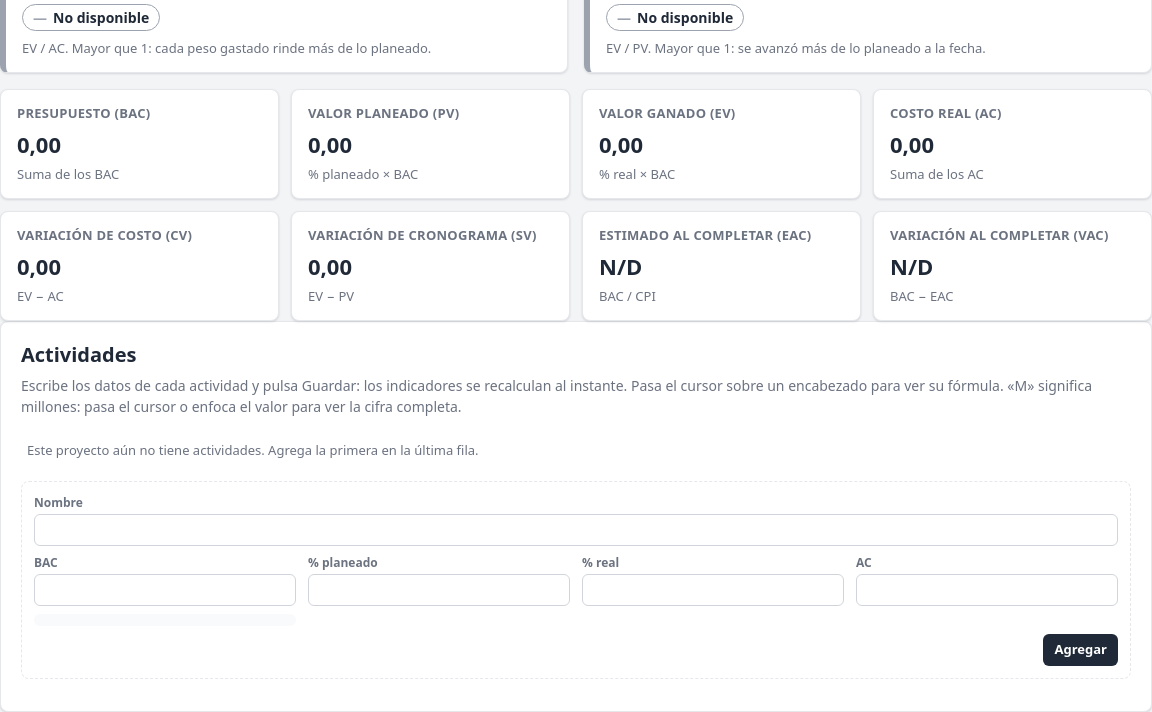
Scenario: ActivitiesTable › adds an activity from the last row and clears it
The image size is (1152, 712).
(page scrolled)
Expected: the text "Este proyecto aún no tiene actividades" is shown, [27, 441, 478, 459]
In the field named "Nombre de la nueva actividad": (576, 530) [34, 514, 1118, 546], type "Reportes"
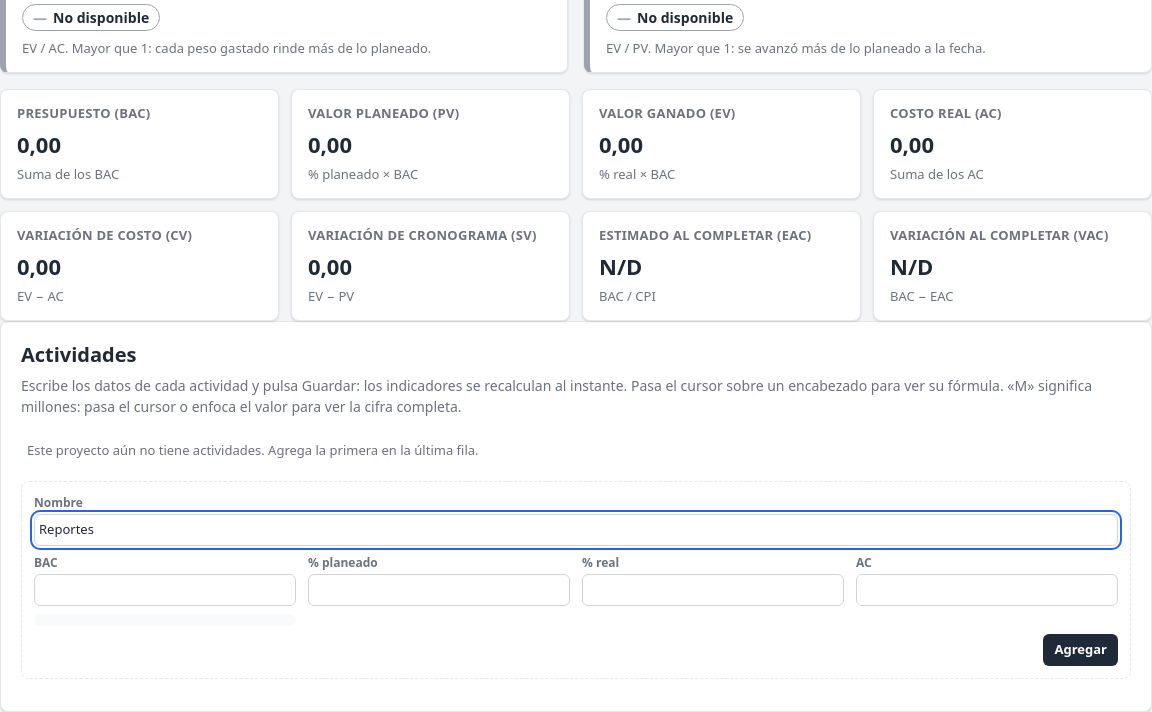
In the number field named "BAC de la nueva actividad": (165, 590) [34, 574, 296, 606], type "20000"
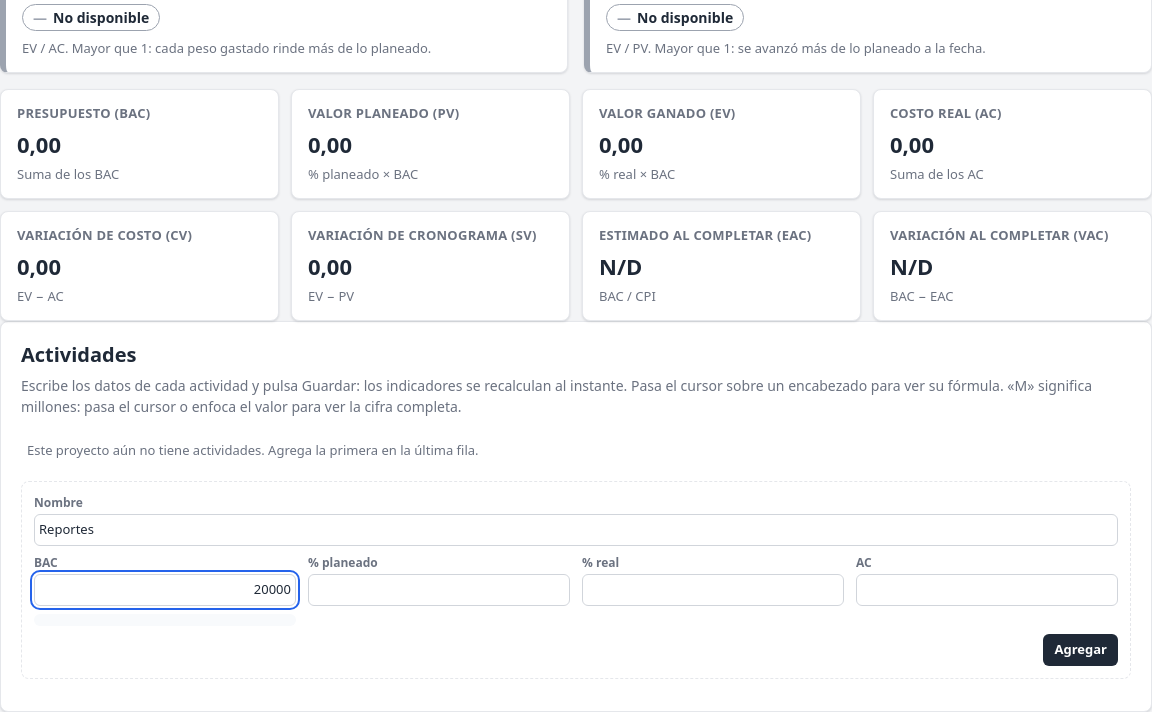
In the number field named "% planeado de la nueva actividad": (439, 590) [308, 574, 570, 606], type "25"
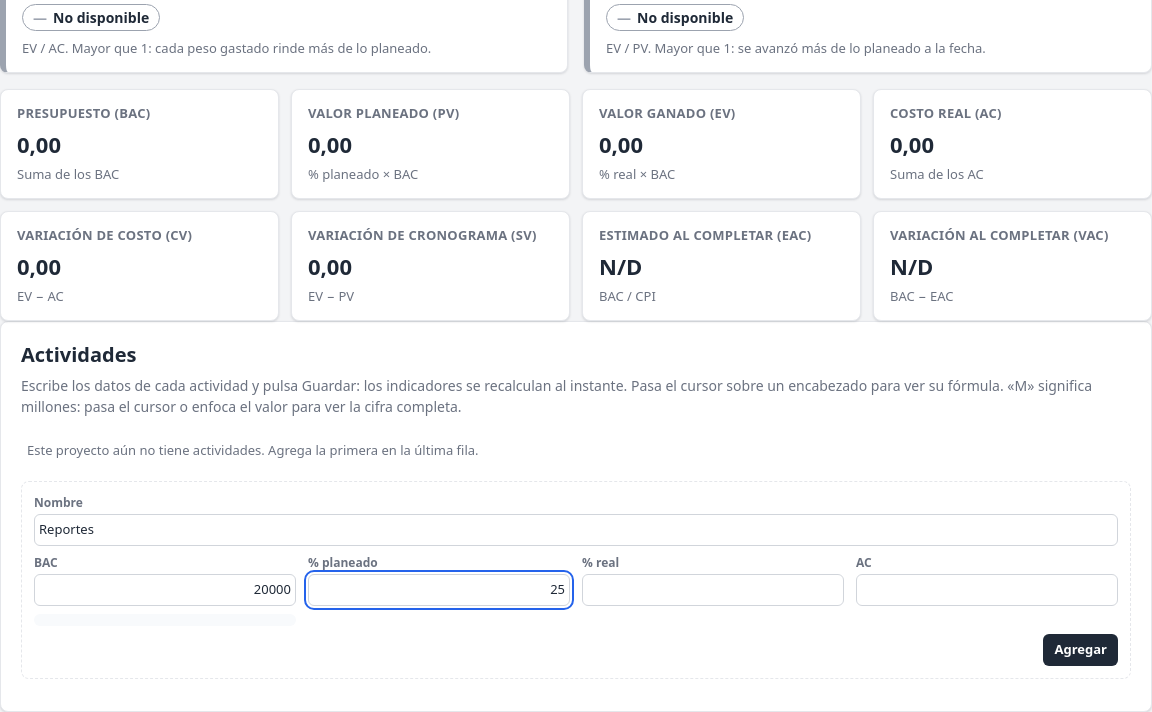
In the number field named "% real de la nueva actividad": (713, 590) [582, 574, 844, 606], type "50"
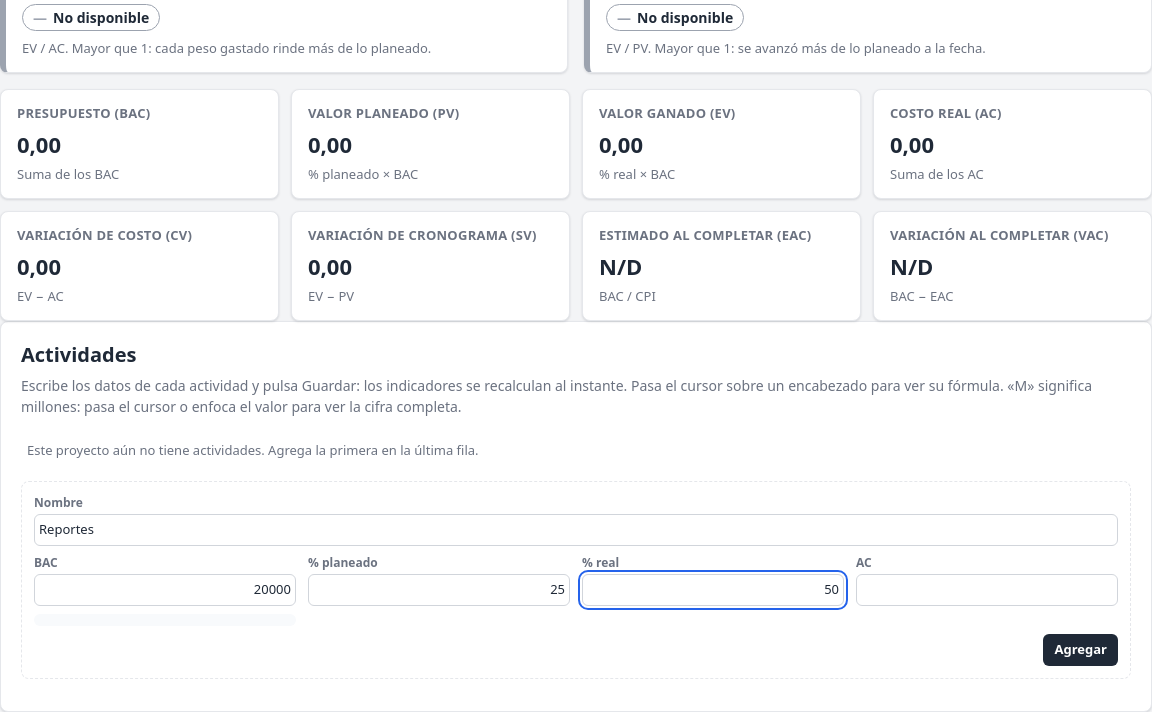
In the number field named "AC de la nueva actividad": (987, 590) [856, 574, 1118, 606], type "12000"
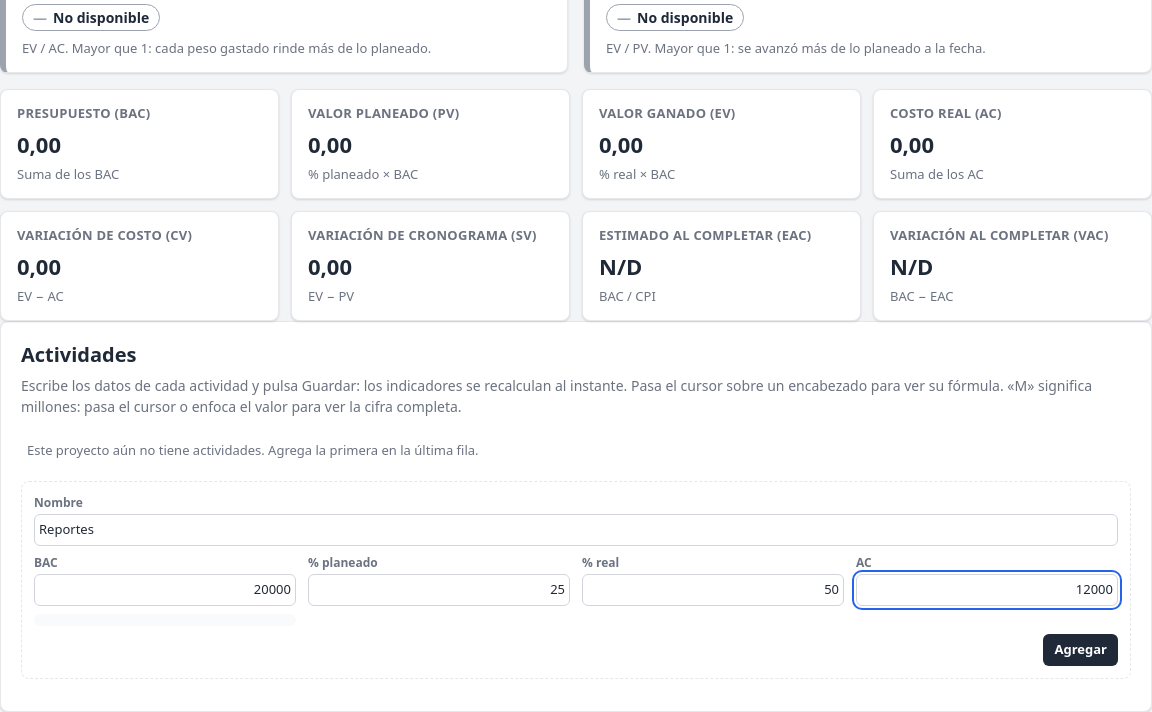
Click the button "Agregar": (1081, 650) [1044, 634, 1118, 666]
(page scrolled)
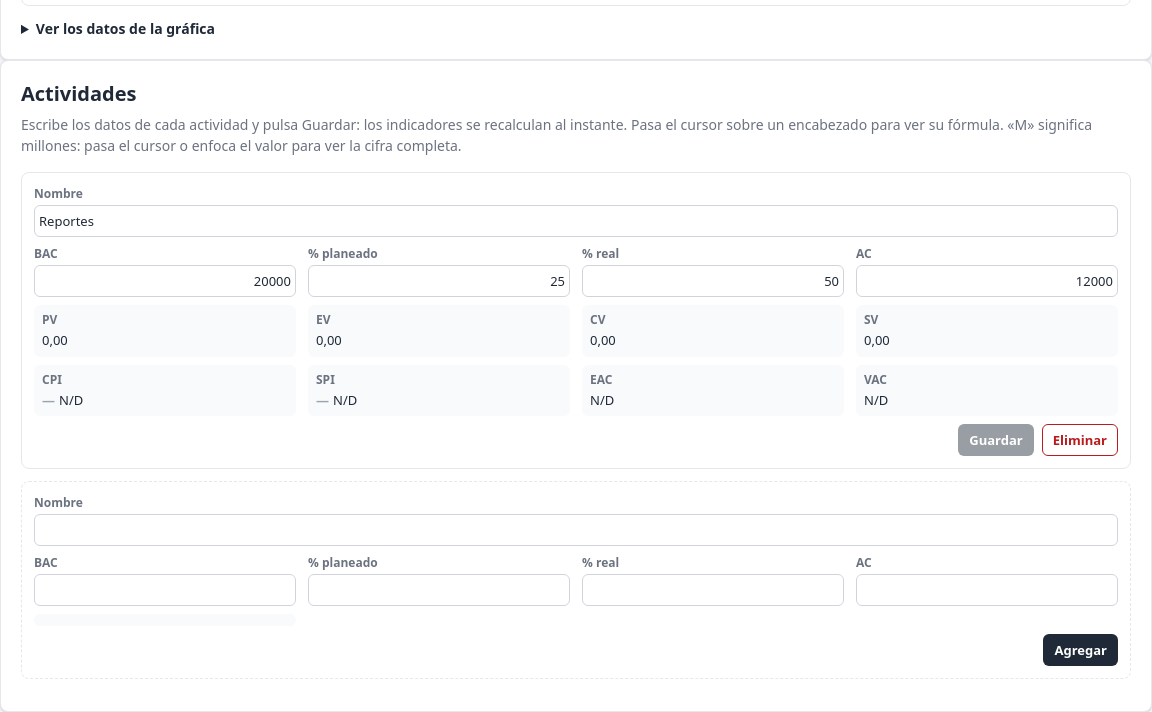
Expected: the field named "Nombre de Reportes" holds "Reportes", [34, 205, 1118, 237]
Expected: the field named "Nombre de la nueva actividad" is empty, [34, 514, 1118, 546]
